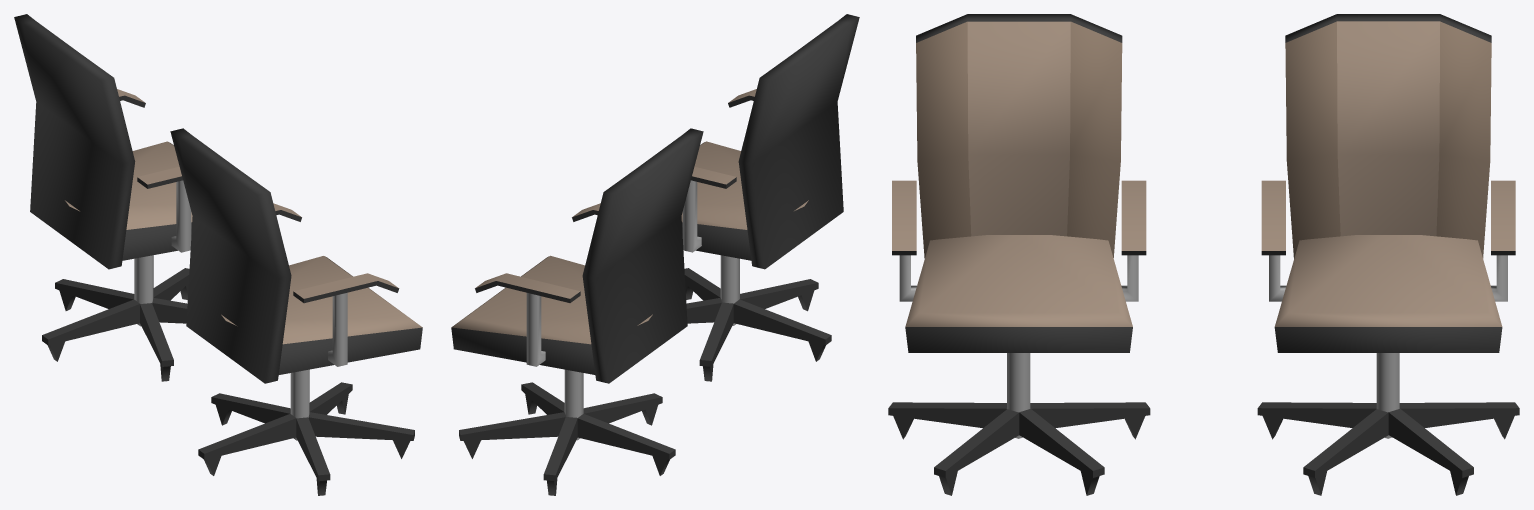
The model's file is interior_F_003.fbx.
3 views of the same model, side by side, from view 1: azimuth 30°, elevation 25°; view 2: azimuth 150°, elevation 25°; view 3: azimuth 270°, elevation 25° (orthographic). The views are drawn at different scales.
Parts seen in each view (by area): view 1: interior_F_003; view 2: interior_F_003; view 3: interior_F_003.
Part boxes in pixels (left/top/right/bottom): interior_F_003: left=14, top=14, right=422, bottom=495; interior_F_003: left=451, top=14, right=859, bottom=495; interior_F_003: left=888, top=14, right=1519, bottom=495.
Bounding box in the file's own units: 62.9 × 106 × 159.
